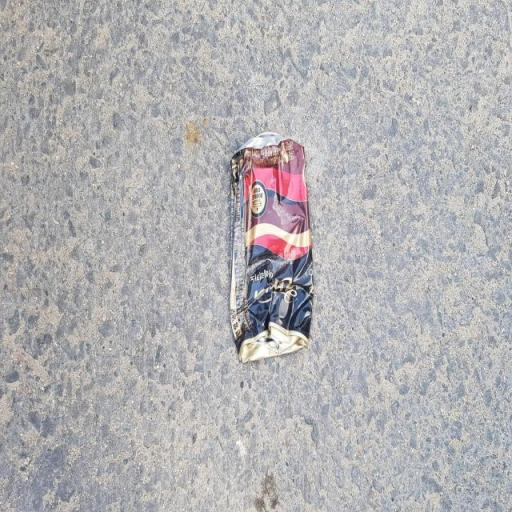metal: (204, 112, 332, 392)
